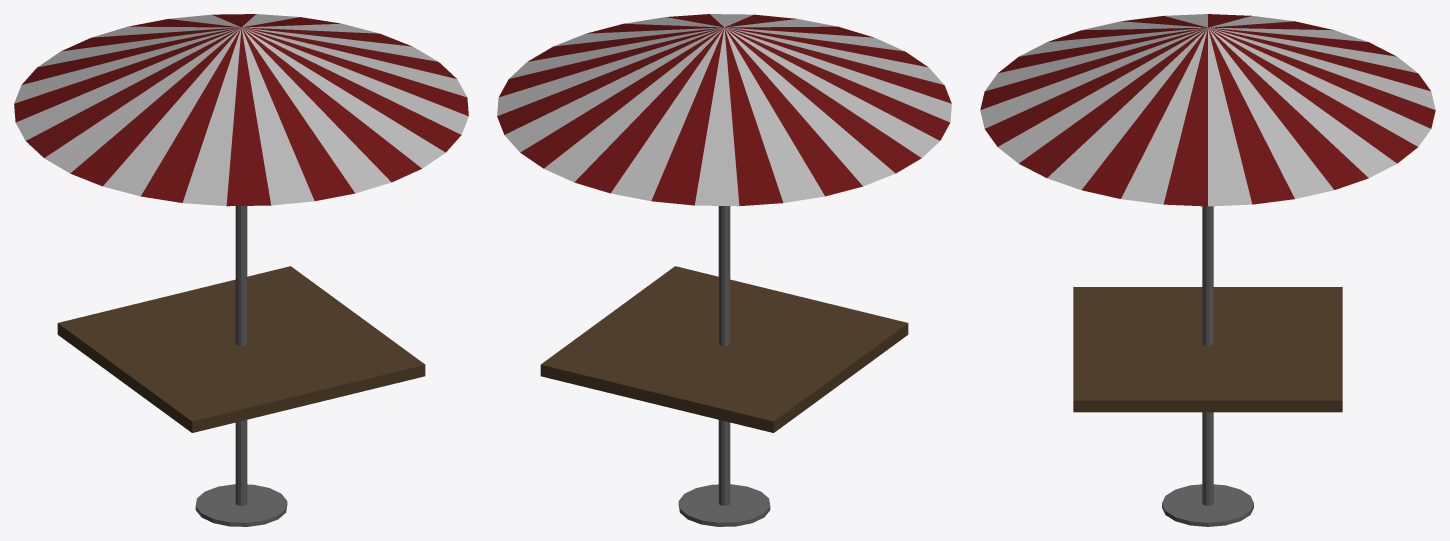
The model's file is TableWithUmbrela(Red).fbx.
3 views of the same model, side by side, from view 1: azimuth 30°, elevation 25°; view 2: azimuth 150°, elevation 25°; view 3: azimuth 270°, elevation 25° (orthographic).
Parts seen in each view (by area): view 1: Cone, Cube, Cylinder, Cylinder.001; view 2: Cone, Cube, Cylinder, Cylinder.001; view 3: Cone, Cube, Cylinder, Cylinder.001.
Part boxes in pixels (x1,y1,x2,y2): Cone: (14,14,468,206); Cube: (57,266,425,432); Cylinder: (195,484,287,526); Cylinder.001: (235,206,247,505); Cone: (497,14,951,206); Cube: (540,266,908,432); Cylinder: (678,484,770,526); Cylinder.001: (718,206,730,505); Cone: (980,14,1435,206); Cube: (1073,287,1342,412); Cylinder: (1162,484,1253,526); Cylinder.001: (1202,206,1213,505).
Bounding box in the file's own units: 200 × 232 × 200.
